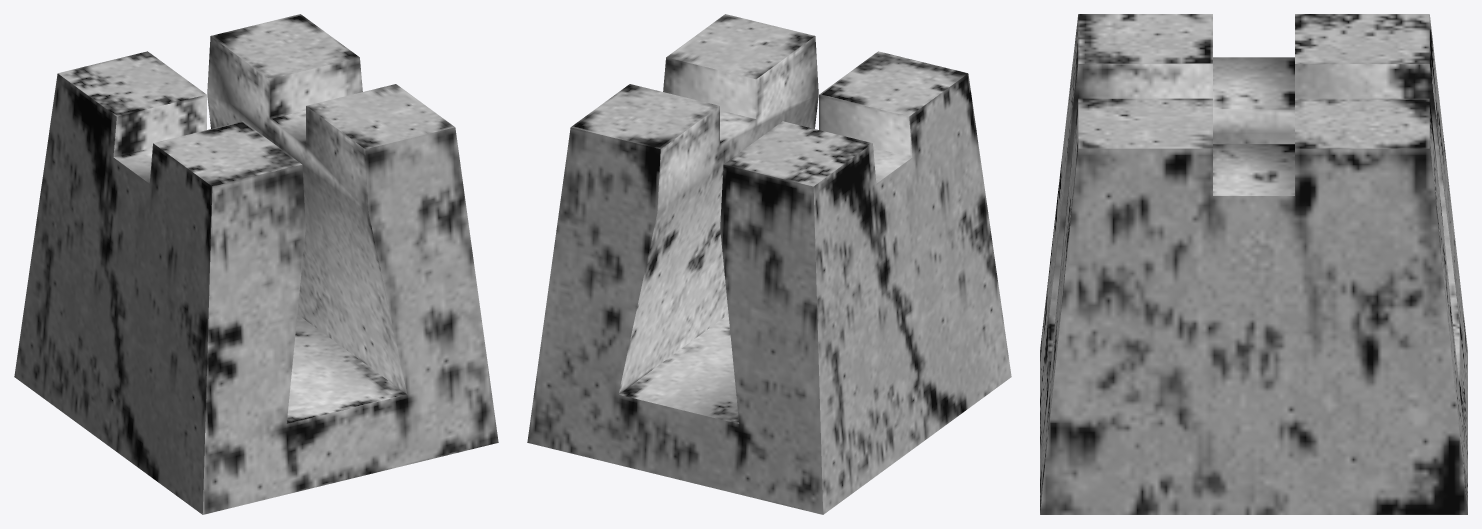
The model's file is zabor_connector.fbx.
3 renders of one model, left to right at view 1: azimuth 30°, elevation 25°; view 2: azimuth 150°, elevation 25°; view 3: azimuth 270°, elevation 25°, orthographic. The views are drawn at different scales.
Visible parts, largest first — view 1: Cube.001; view 2: Cube.001; view 3: Cube.001.
Boxes of the visible parts, box(x1,y1,x2,y2) form: Cube.001: box(14, 14, 498, 514); Cube.001: box(527, 14, 1011, 514); Cube.001: box(1040, 14, 1467, 514).
Bounding box in the file's own units: 334 × 334 × 369.
1 material, 1 textured.
